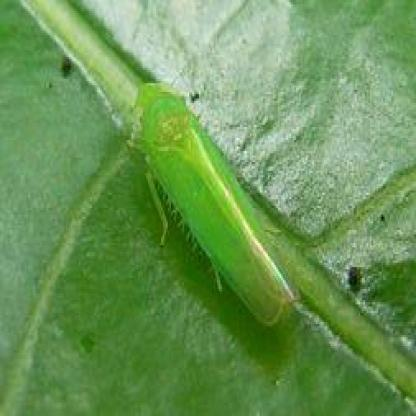Green-Leafhopper: (130, 84, 304, 329)
